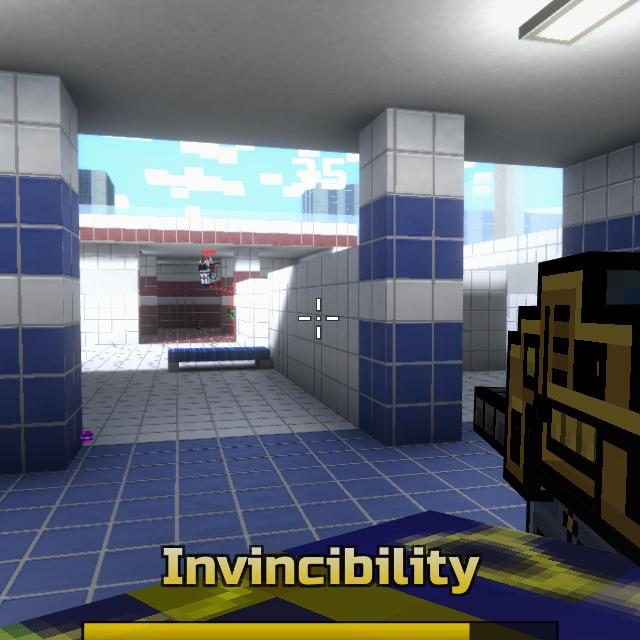Enemy: (226, 292, 233, 327)
